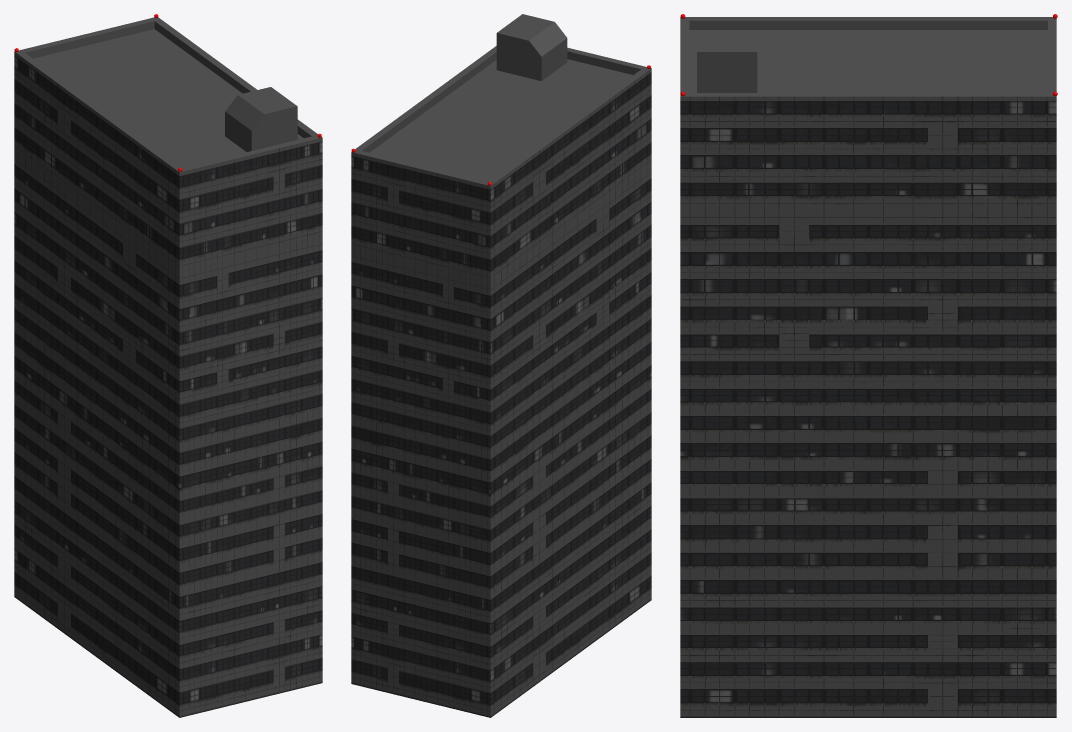
File: Mesh_Office-Medium.fbx
The picture shows the model from 3 angles, left to right: view 1: azimuth 30°, elevation 25°; view 2: azimuth 150°, elevation 25°; view 3: azimuth 270°, elevation 25°; orthographic projection. The views are drawn at different scales.
Parts seen in each view (by area): view 1: Mesh_Office-Medium; view 2: Mesh_Office-Medium; view 3: Mesh_Office-Medium.
Part boxes in pixels (x1,y1,x2,y2): Mesh_Office-Medium: (14,14,322,717); Mesh_Office-Medium: (351,14,651,717); Mesh_Office-Medium: (680,14,1057,717).
Size of the model in its own units: 20.03 by 76.92 by 40.09.
